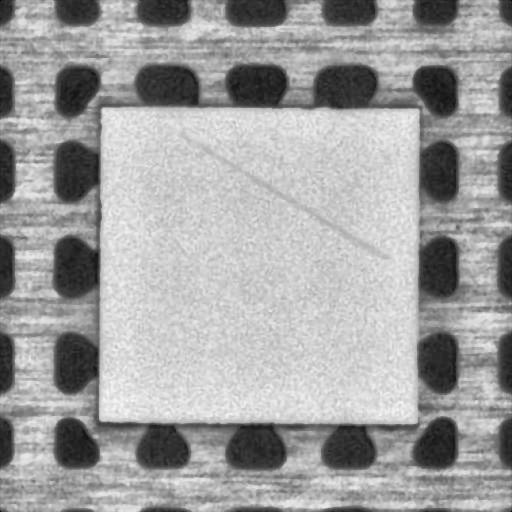DIE_CRACK: (180, 134, 384, 257)
